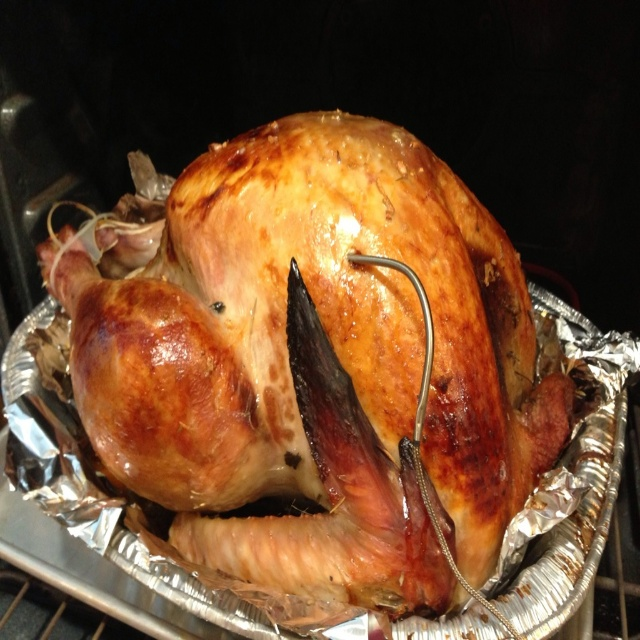Turkey: (35, 108, 577, 640)
